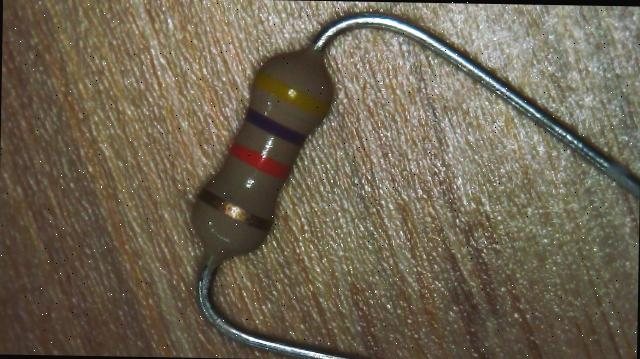gold: (198, 191, 272, 230)
orange: (230, 142, 291, 178)
resistor: (178, 32, 358, 279)
violet: (244, 106, 310, 145)
yellow: (254, 72, 327, 111)
